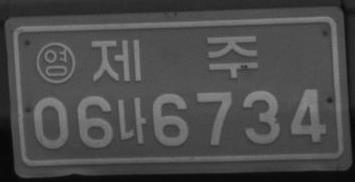0: (31, 95, 69, 150)
3: (242, 88, 282, 144)
4: (289, 87, 328, 143)
6: (75, 95, 114, 150), (151, 92, 189, 148)
7: (195, 89, 233, 146)
나: (116, 96, 148, 144)
영: (35, 42, 78, 85)
제주_D: (90, 34, 260, 84)
